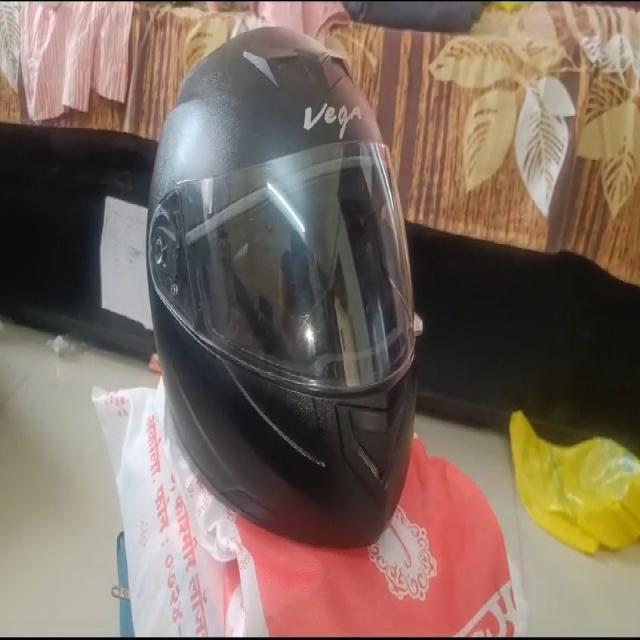Helmet: (149, 29, 415, 547)
